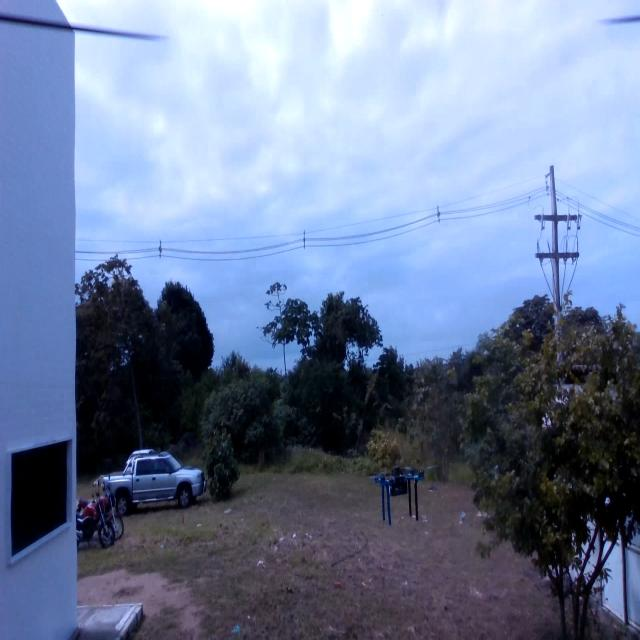-uav-: (362, 451, 440, 529)
